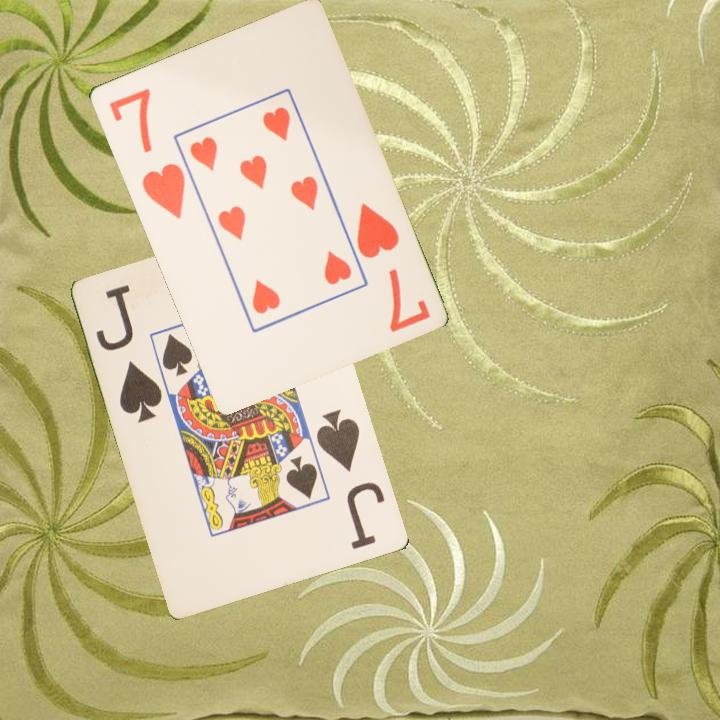7h: (105, 84, 188, 222), (352, 199, 433, 335)
Js: (313, 406, 389, 553), (92, 281, 166, 426)
